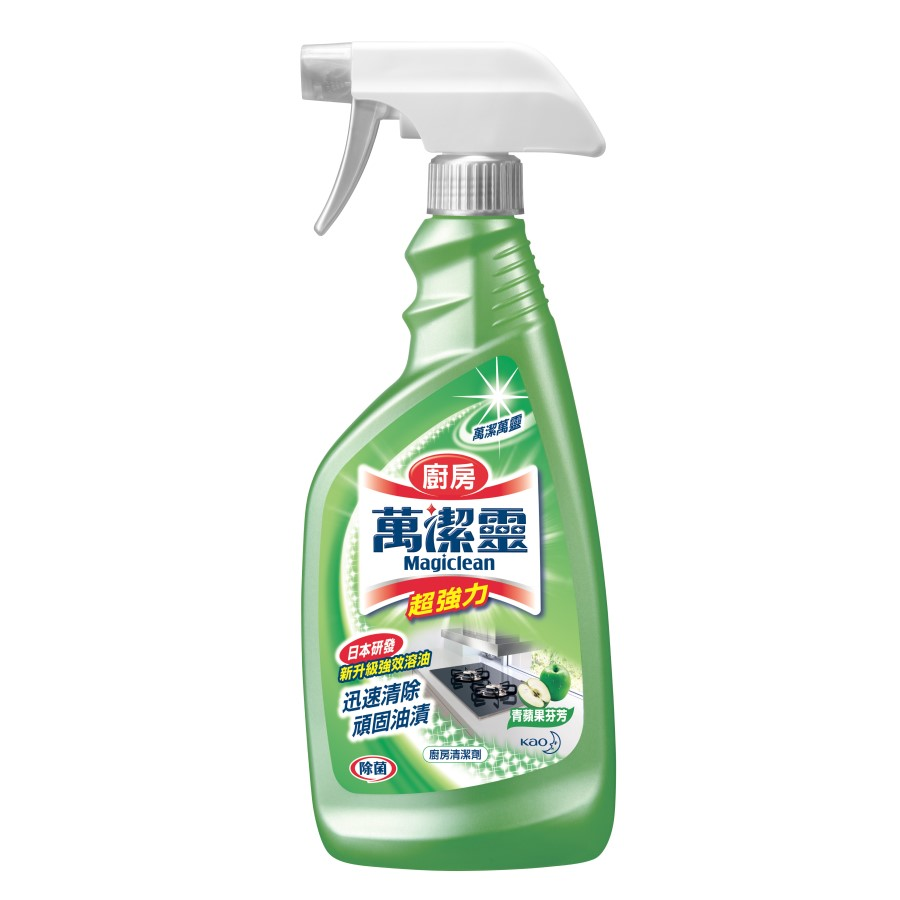cleaner: (278, 35, 619, 875)
